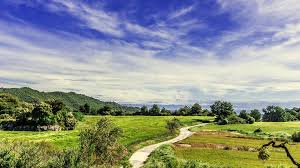field: (4, 114, 289, 168)
mountain: (4, 85, 139, 117)
sky: (1, 2, 297, 98)
